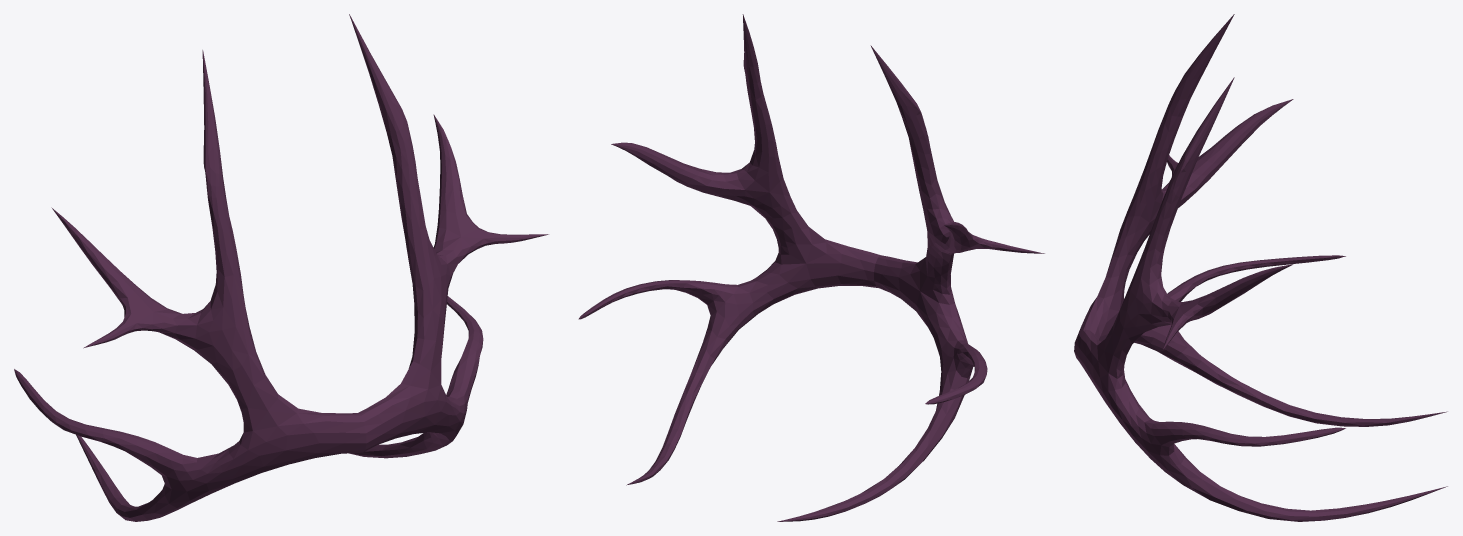
Rendered from crown_.glb.
3 views of the same model, side by side, from view 1: azimuth 30°, elevation 25°; view 2: azimuth 150°, elevation 25°; view 3: azimuth 270°, elevation 25° (orthographic). The views are drawn at different scales.
Visible parts, largest first — view 1: model_crown_03.002; view 2: model_crown_03.002; view 3: model_crown_03.002.
Boxes of the visible parts, x1=… form: model_crown_03.002: x1=14, y1=14, x2=548, y2=521; model_crown_03.002: x1=578, y1=14, x2=1044, y2=521; model_crown_03.002: x1=1074, y1=14, x2=1447, y2=521.
Size of the model in its own units: 0.3515 by 0.3462 by 0.2759.
